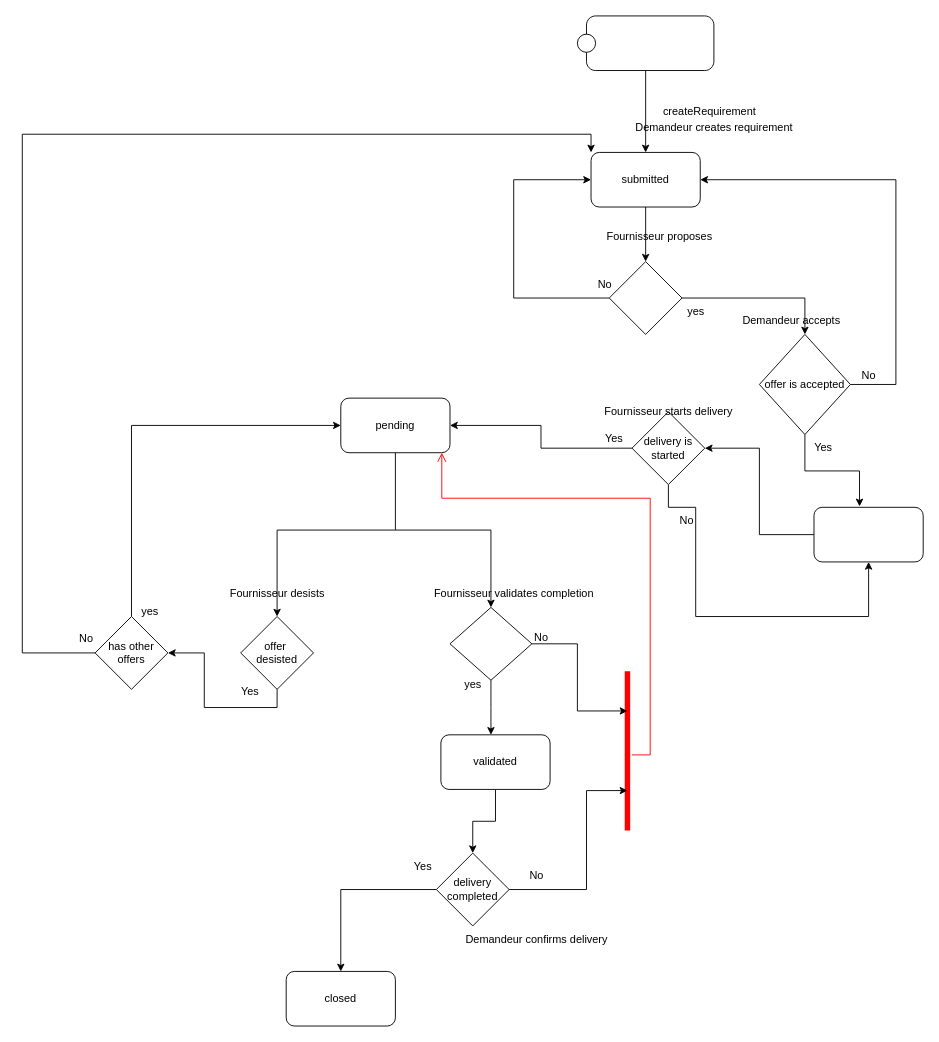
Some shapes in this 939 by 1042 pixel diagram are drawn without their labels. Here are the shapes that lost their labels. From the top down, the box of each, then its label:
(576, 15, 714, 71): Initial state
(608, 261, 682, 334): has offers
(813, 506, 923, 562): in_validation
(449, 607, 532, 680): delivery validated
